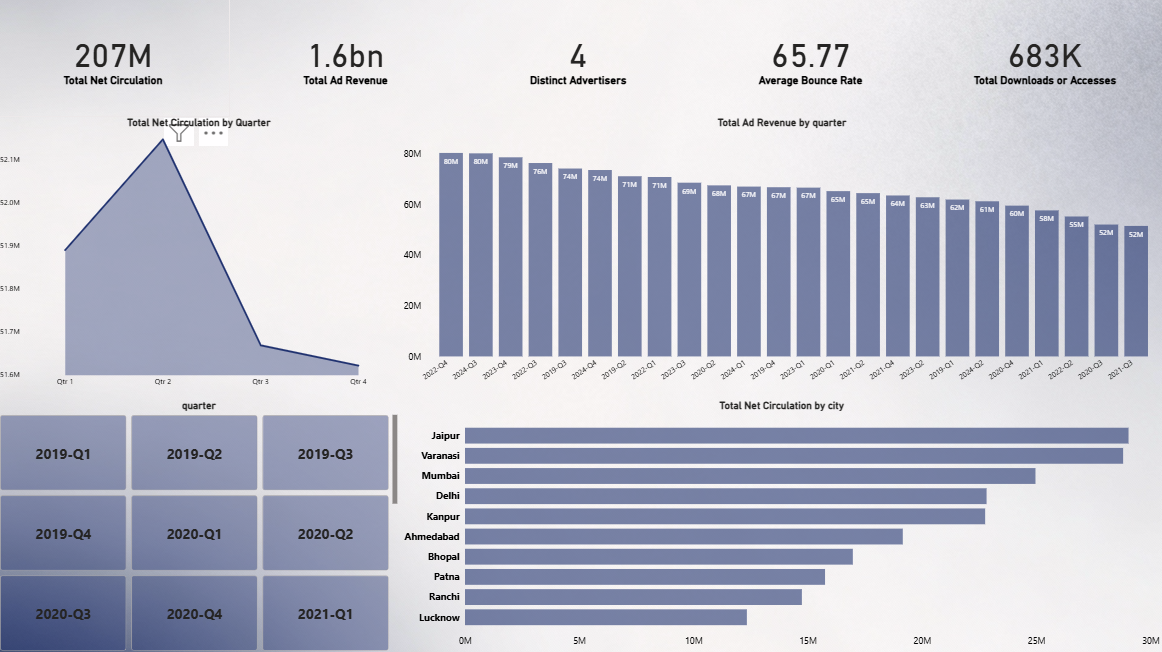

What the dashboard file says about the page in this screenshot:
{"tool":"powerbi","page":{"name":"Sales analysis","canvas":[1920,1080],"ordinal":0},"visuals":[{"type":"card","fields":{"Values":["fact_print_sales.Total Net Circulation"]},"box":[0,0,382.8,195.5],"z":0},{"type":"card","fields":{"Values":["fact_ad_revenue.Distinct Advertisers"]},"box":[765.7,0,382.8,195.5],"z":1000},{"type":"card","fields":{"Values":["fact_ad_revenue.Total Ad Revenue"]},"box":[382.8,0,382.8,195.5],"z":2000},{"type":"card","fields":{"Values":["fact_digital_pilot.Average Bounce Rate"]},"box":[1148.5,0,382.8,195.5],"z":3000},{"type":"card","fields":{"Values":["fact_digital_pilot.Total Downloads or Accesses"]},"box":[1531.4,0,389,195.5],"z":4000},{"type":"areaChart","fields":{"Category":["fact_print_sales.Date.Variation.Date Hierarchy.Quarter"],"Y":["fact_print_sales.Total Net Circulation"]},"box":[0,195.5,664.8,454.9],"z":5000},{"type":"clusteredColumnChart","fields":{"Category":["fact_ad_revenue.quarter"],"Y":["fact_ad_revenue.Total Ad Revenue"]},"box":[664.8,195.5,1255.6,454.9],"z":6000},{"type":"advancedSlicerVisual","fields":{"Values":["fact_ad_revenue.quarter"]},"box":[0,660.7,664.8,419.9],"z":7000},{"type":"clusteredBarChart","fields":{"Category":["dim_city.city"],"Y":["fact_print_sales.Total Net Circulation"]},"box":[665,661,1255,419],"z":8000}]}

Visuals, with their boxes in screenshot pixels (x1, y1, x2, y2), scaled from the page's 1920x1080 canvas onto the 1162x652 screenshot:
card - fact_print_sales.Total Net Circulation: [0, 0, 232, 118]
card - fact_ad_revenue.Distinct Advertisers: [463, 0, 695, 118]
card - fact_ad_revenue.Total Ad Revenue: [232, 0, 463, 118]
card - fact_digital_pilot.Average Bounce Rate: [695, 0, 927, 118]
card - fact_digital_pilot.Total Downloads or Accesses: [927, 0, 1161, 118]
areaChart - fact_print_sales.Date.Variation.Date Hierarchy.Quarter x fact_print_sales.Total Net Circulation: [0, 118, 402, 393]
clusteredColumnChart - fact_ad_revenue.quarter x fact_ad_revenue.Total Ad Revenue: [402, 118, 1161, 393]
advancedSlicerVisual - fact_ad_revenue.quarter: [0, 399, 402, 651]
clusteredBarChart - dim_city.city x fact_print_sales.Total Net Circulation: [402, 399, 1161, 651]
